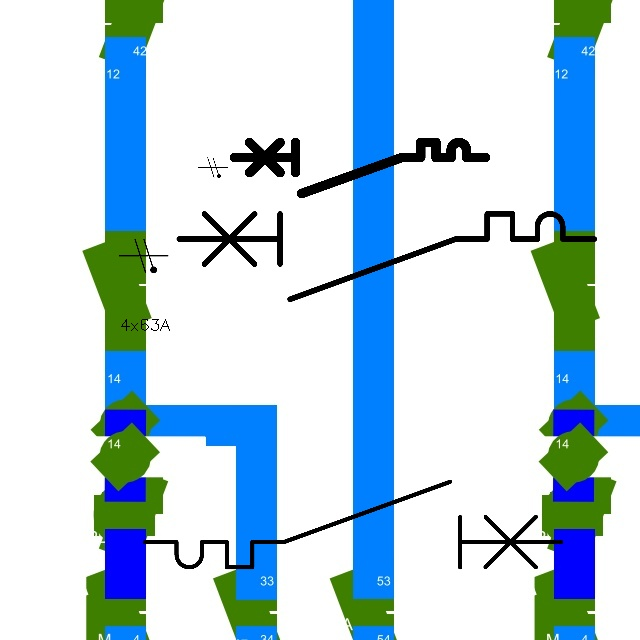interruptor_termomagnetico: (134, 471, 572, 578), (168, 203, 604, 310), (227, 136, 491, 200)
